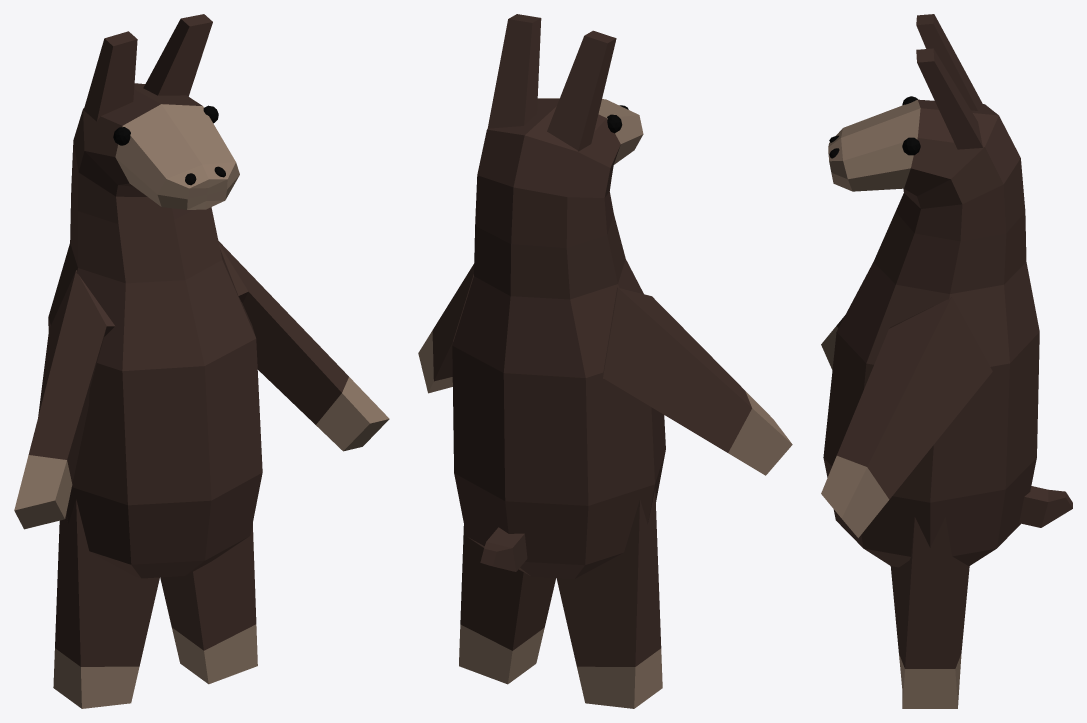
File: polyLlama_variant1.fbx
3 renders of one model, left to right at view 1: azimuth 30°, elevation 25°; view 2: azimuth 150°, elevation 25°; view 3: azimuth 270°, elevation 25°, orthographic. The views are drawn at different scales.
Visible parts, largest first — view 1: Cube.002; view 2: Cube.002; view 3: Cube.002.
Part boxes in pixels (x1,y1,x2,y2): Cube.002: (14,14,389,708); Cube.002: (418,14,792,708); Cube.002: (821,14,1072,708).
Size of the model in its own units: 446 by 746 by 267.
